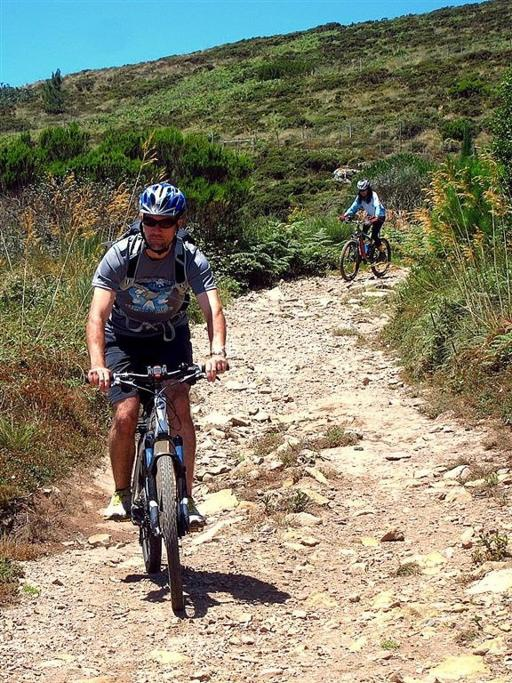non-vehicle: (85, 357, 229, 609), (339, 211, 391, 280)
